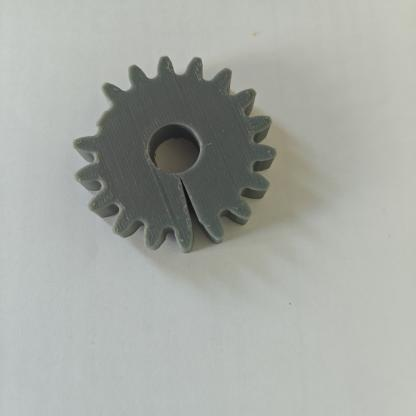defect: (156, 174, 252, 263), (53, 73, 148, 157)
gear: (38, 46, 300, 267)
